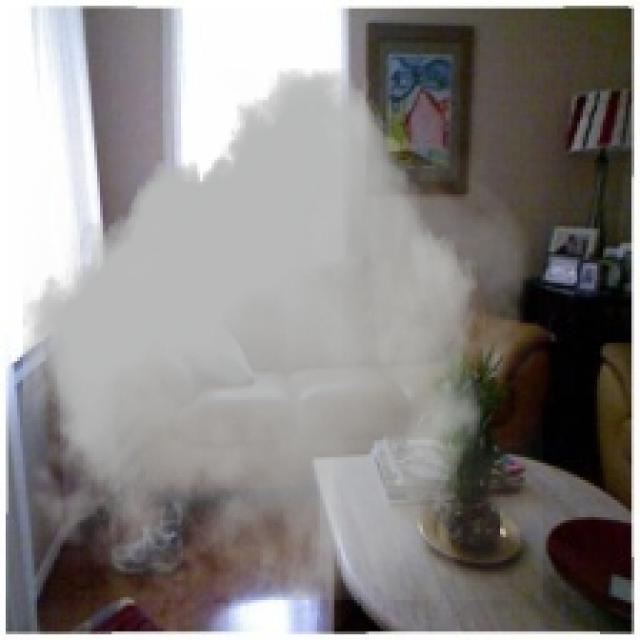smoke: (14, 69, 543, 600)
